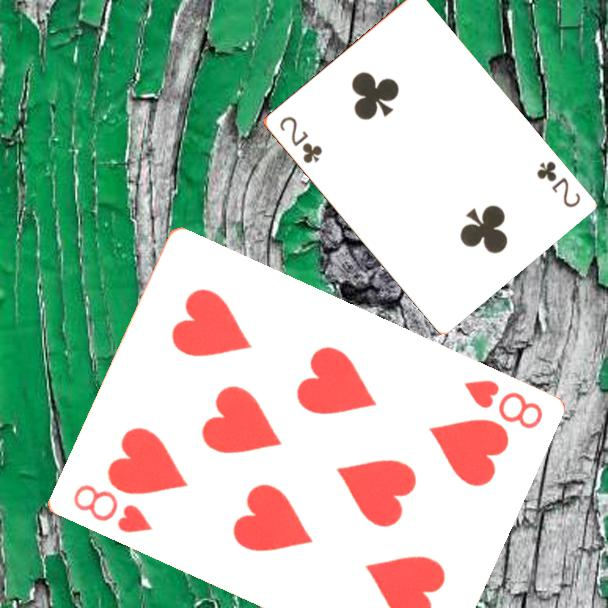c02: (532, 157, 583, 211), (275, 113, 325, 166)
h08: (68, 480, 155, 537), (459, 376, 546, 432)
